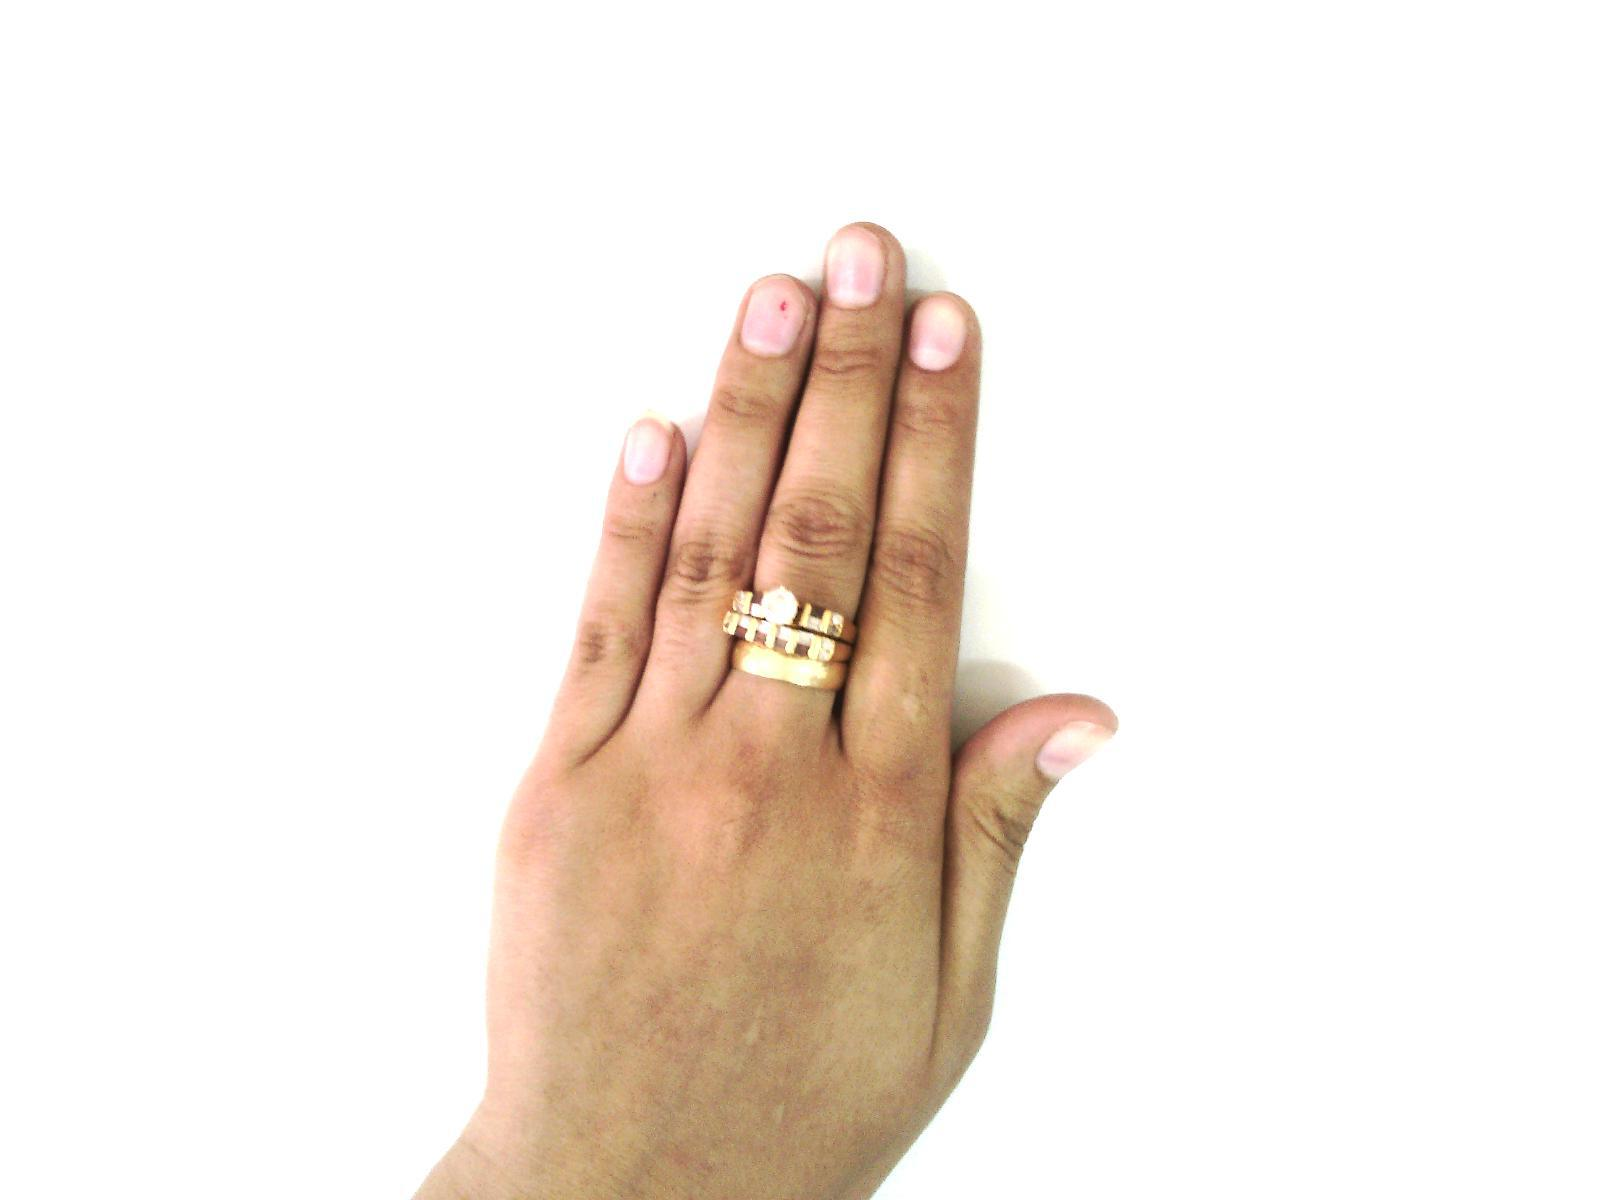hand: (461, 218, 1124, 1200)
